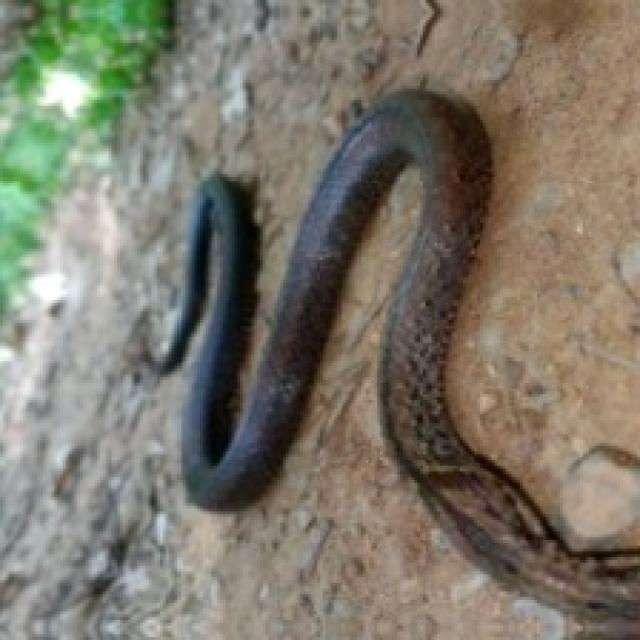reinhardts lined snake: (166, 91, 637, 637)
